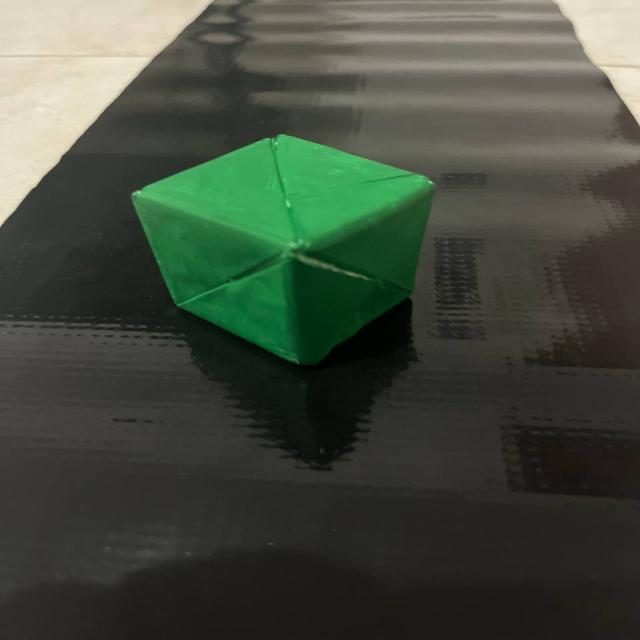Verde: (105, 107, 466, 384)
